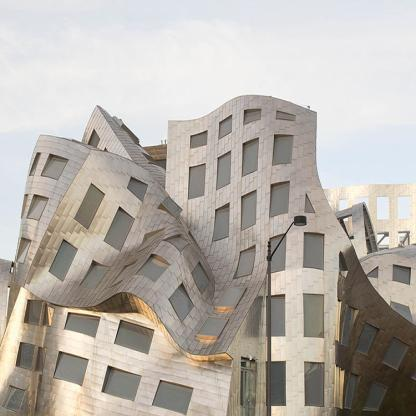Building Outline: (0, 94, 416, 416)
Door: (240, 371, 256, 416)
Facade: (1, 94, 331, 416)
Window: (115, 321, 154, 354), (153, 381, 192, 414), (75, 184, 104, 228), (105, 209, 134, 251), (49, 241, 77, 280), (104, 370, 140, 400), (54, 354, 88, 385), (303, 295, 323, 337), (304, 363, 323, 406), (136, 257, 169, 281), (170, 286, 193, 320), (65, 314, 100, 336), (266, 364, 284, 404), (303, 235, 323, 269), (270, 183, 289, 217), (80, 266, 109, 288), (268, 298, 284, 335), (242, 140, 258, 177), (42, 157, 68, 179), (269, 237, 285, 272), (273, 137, 292, 165), (242, 192, 256, 230), (189, 165, 205, 198), (192, 264, 209, 293), (198, 318, 225, 336), (237, 250, 255, 277), (214, 208, 229, 240), (4, 388, 24, 411), (217, 154, 230, 188), (218, 289, 242, 307), (27, 199, 47, 220), (20, 344, 35, 369), (128, 179, 146, 199), (28, 302, 42, 325), (167, 237, 189, 251), (163, 198, 181, 215), (17, 242, 31, 263), (220, 118, 232, 138), (191, 132, 206, 147), (244, 111, 260, 125), (241, 358, 256, 370), (31, 155, 40, 174), (277, 112, 295, 121), (46, 305, 54, 325), (89, 132, 99, 147), (39, 349, 45, 372), (305, 197, 314, 212), (156, 161, 165, 169)
